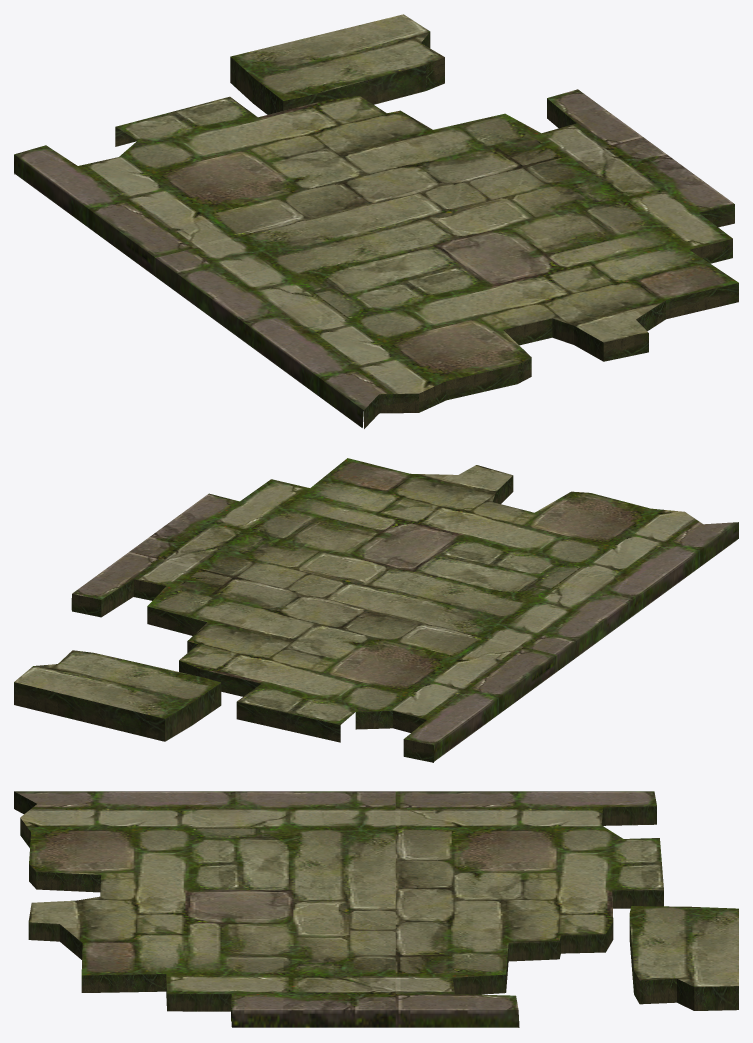
File: yw_huanghunyaosai_polu01.FBX
3 renders of one model, top to bottom at view 1: azimuth 30°, elevation 25°; view 2: azimuth 150°, elevation 25°; view 3: azimuth 270°, elevation 25°, orthographic. The views are drawn at different scales.
Parts seen in each view (by area): view 1: yw_huanghunyaosai_polu01; view 2: yw_huanghunyaosai_polu01; view 3: yw_huanghunyaosai_polu01.
Part boxes in pixels (box(x1,y1,x2,y2)): yw_huanghunyaosai_polu01: box(14, 14, 738, 428); yw_huanghunyaosai_polu01: box(14, 458, 738, 762); yw_huanghunyaosai_polu01: box(14, 791, 738, 1027).
Bounding box in the file's own units: 452 × 23.19 × 633.
